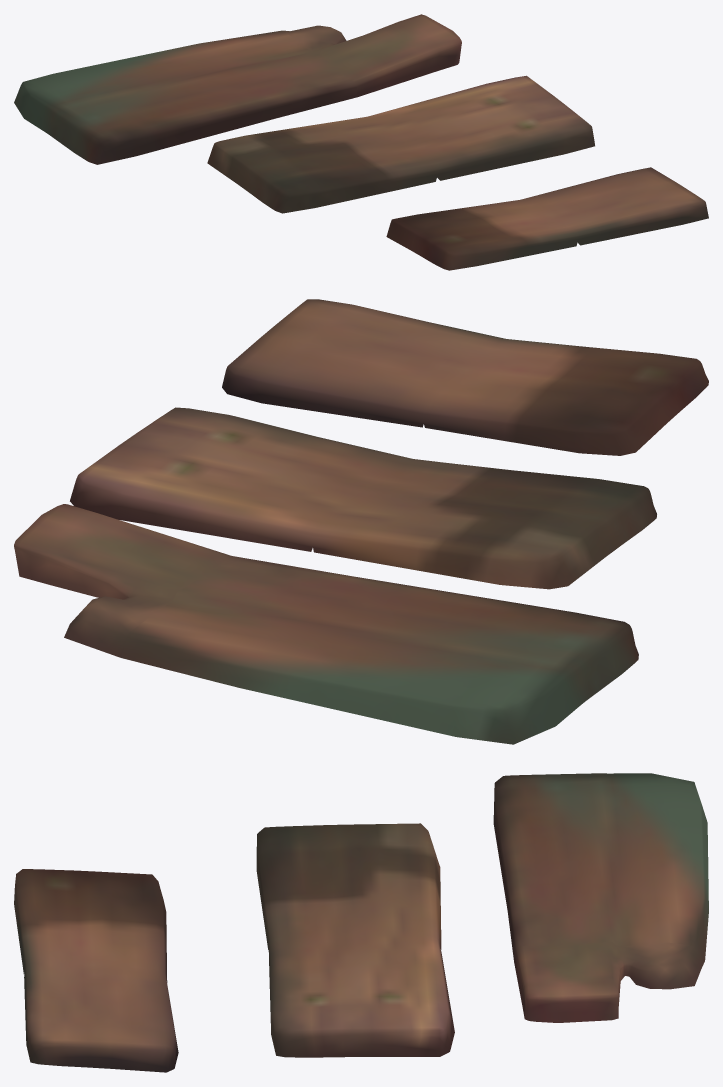
File: Beach_Details_7.glb
3 renders of one model, top to bottom at view 1: azimuth 30°, elevation 25°; view 2: azimuth 150°, elevation 25°; view 3: azimuth 270°, elevation 25°, orthographic. The views are drawn at different scales.
Parts seen in each view (by area): view 1: Object_2.028; view 2: Object_2.028; view 3: Object_2.028.
Part boxes in pixels (x1,y1,x2,y2): Object_2.028: (14, 14, 708, 270); Object_2.028: (14, 299, 708, 744); Object_2.028: (14, 773, 708, 1072).
Bounding box in the file's own units: 11.32 × 1.12 × 13.2.
1 material, 1 textured.
